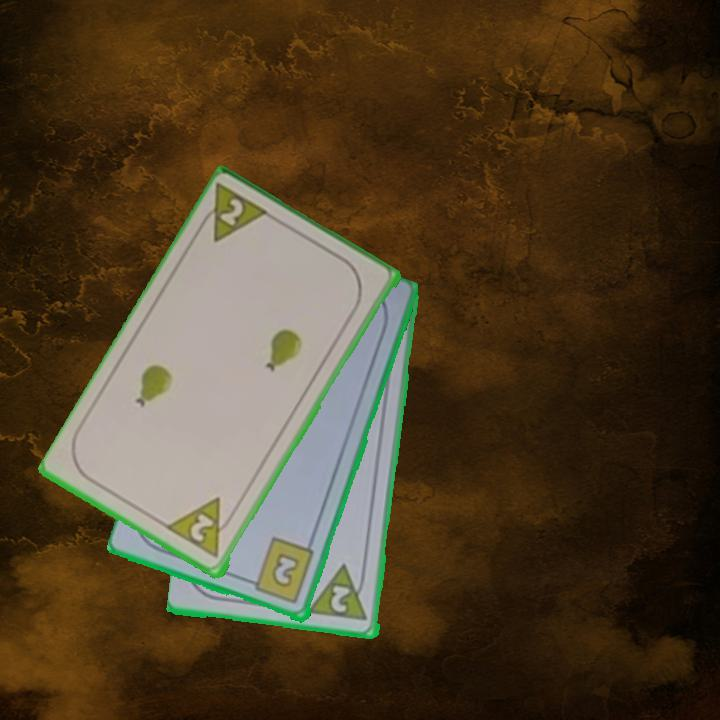2b: (243, 535, 317, 607)
2p: (193, 181, 274, 247), (165, 494, 238, 562), (327, 581, 353, 616)
